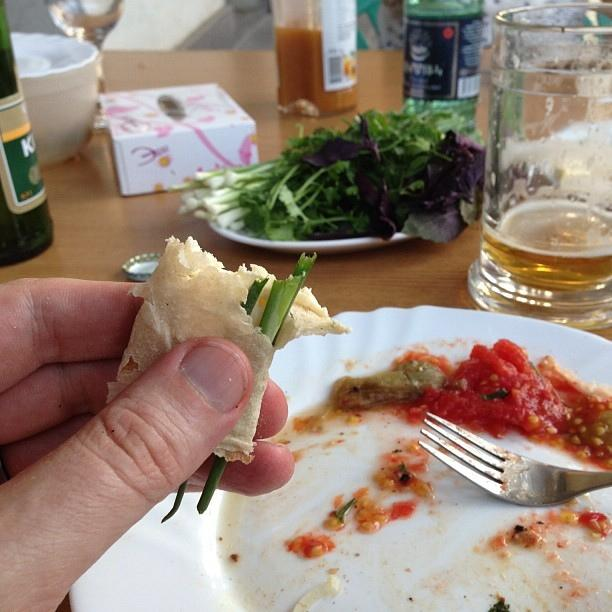green onion: (259, 273, 305, 345), (202, 179, 270, 209), (208, 162, 278, 189), (241, 278, 269, 316), (224, 170, 282, 187), (206, 199, 240, 216), (209, 182, 244, 197), (177, 198, 203, 216)
